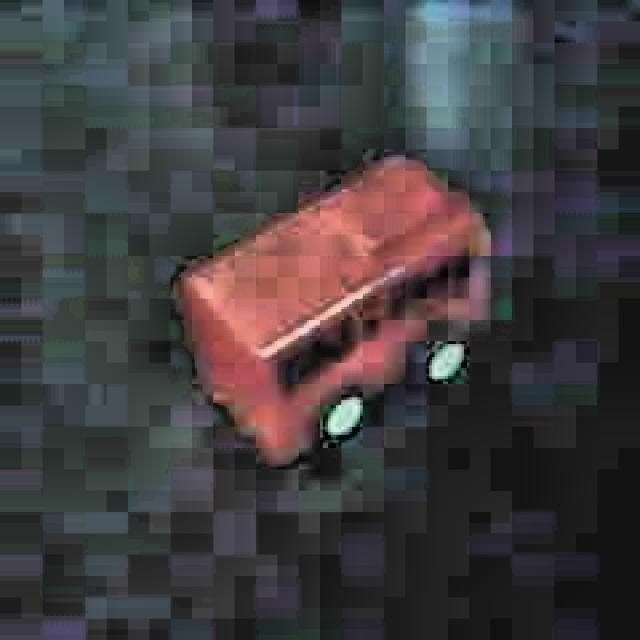bus: (178, 149, 494, 469)
